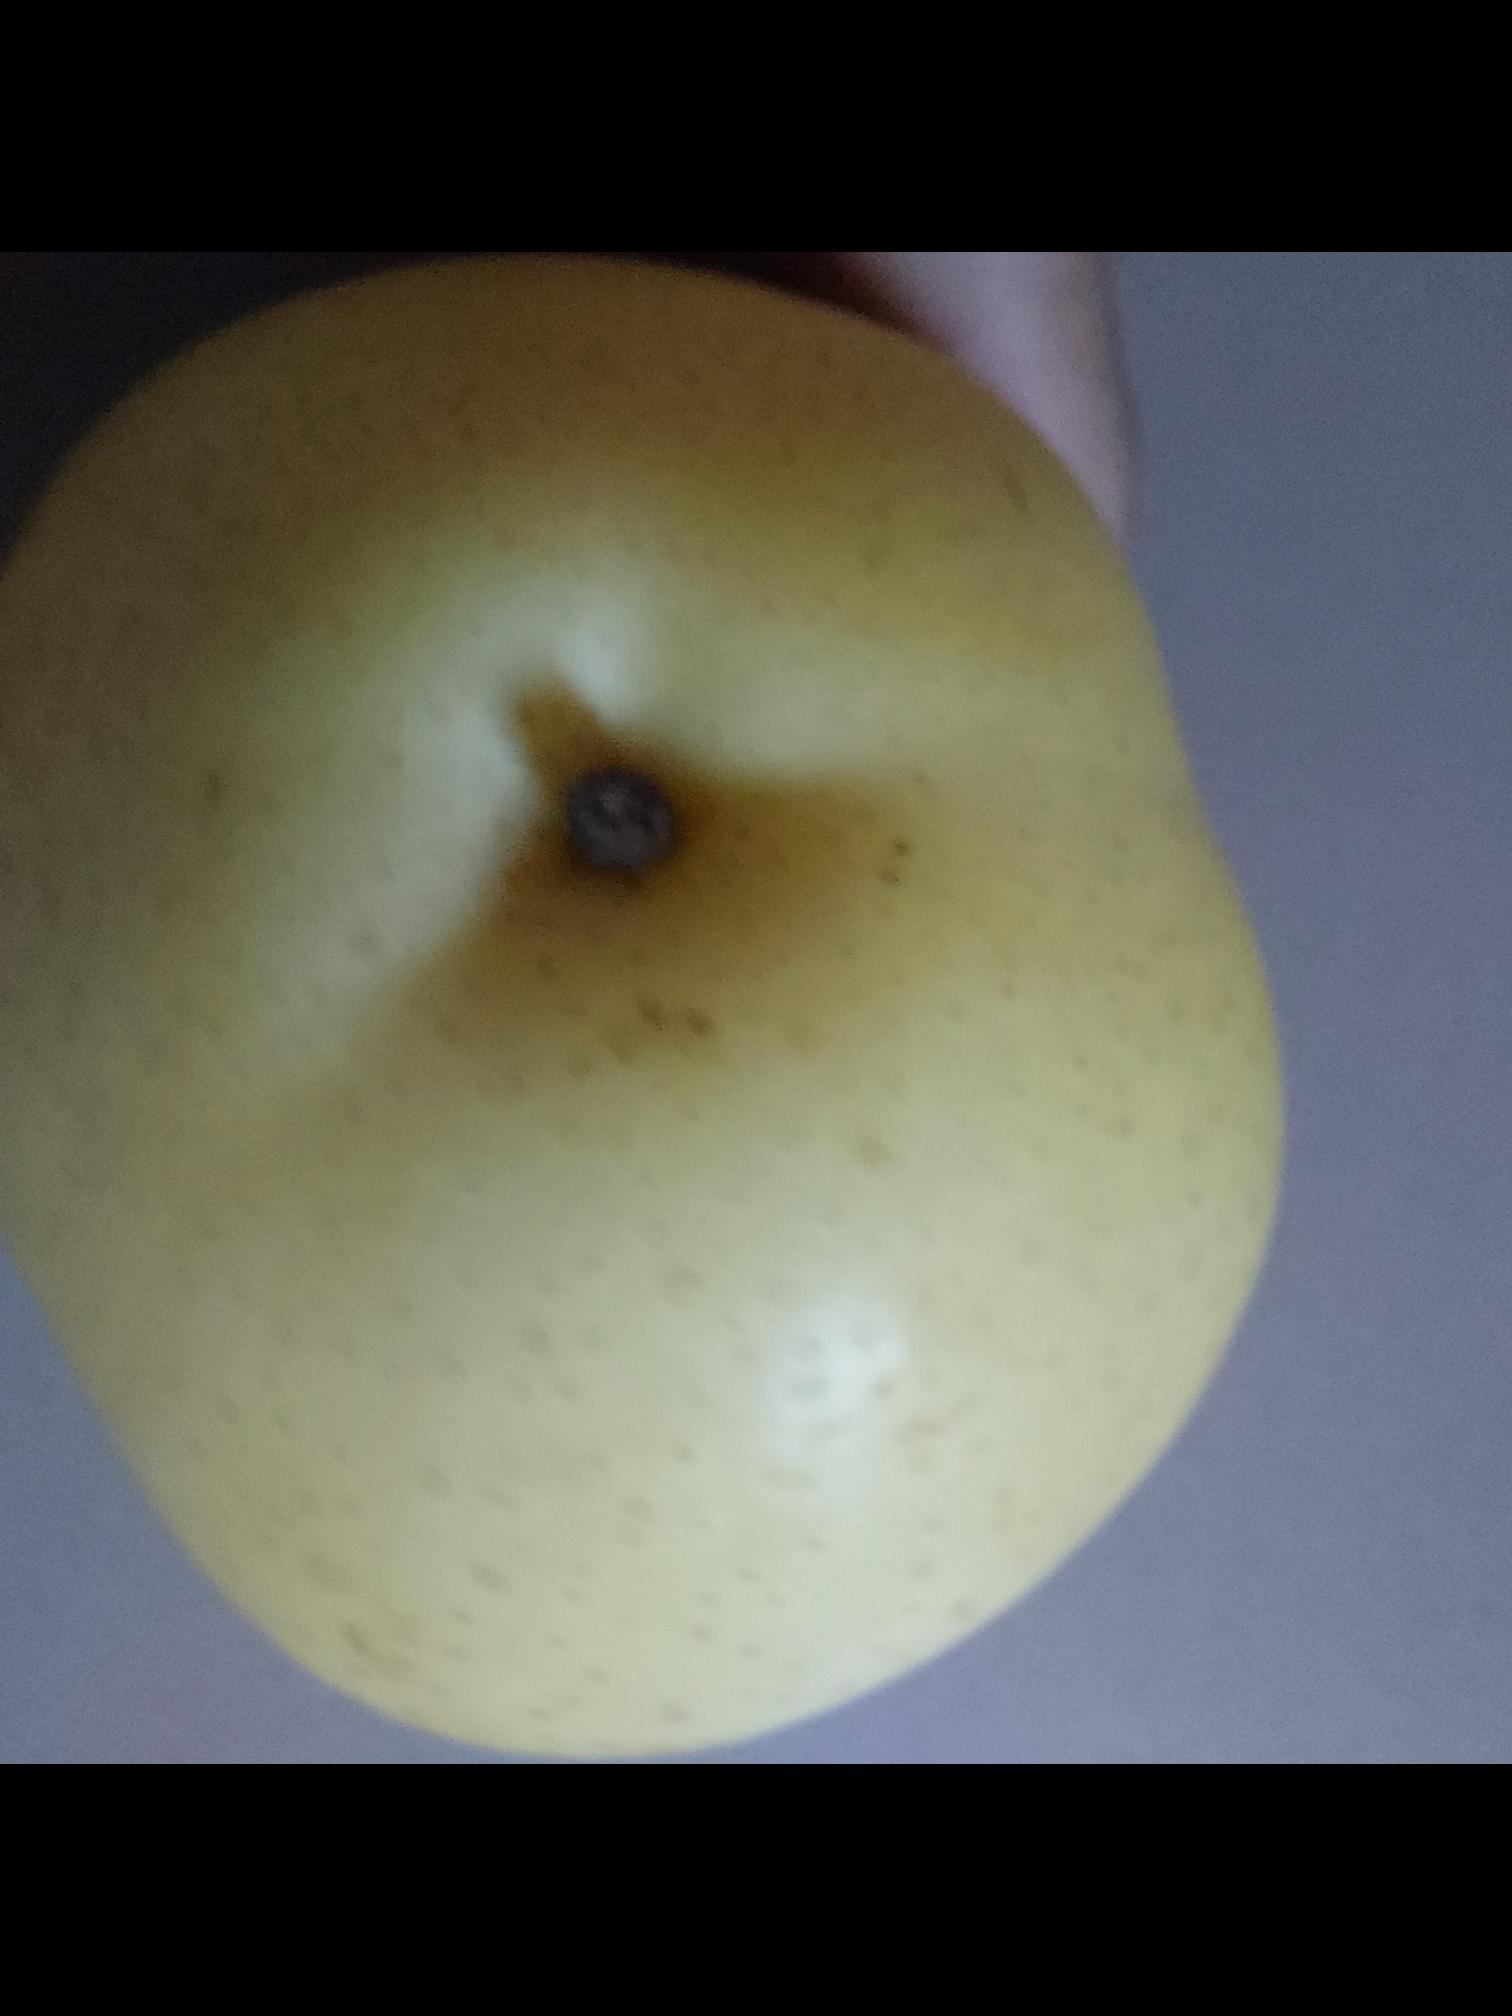Good Pear: (0, 257, 1279, 1764)
